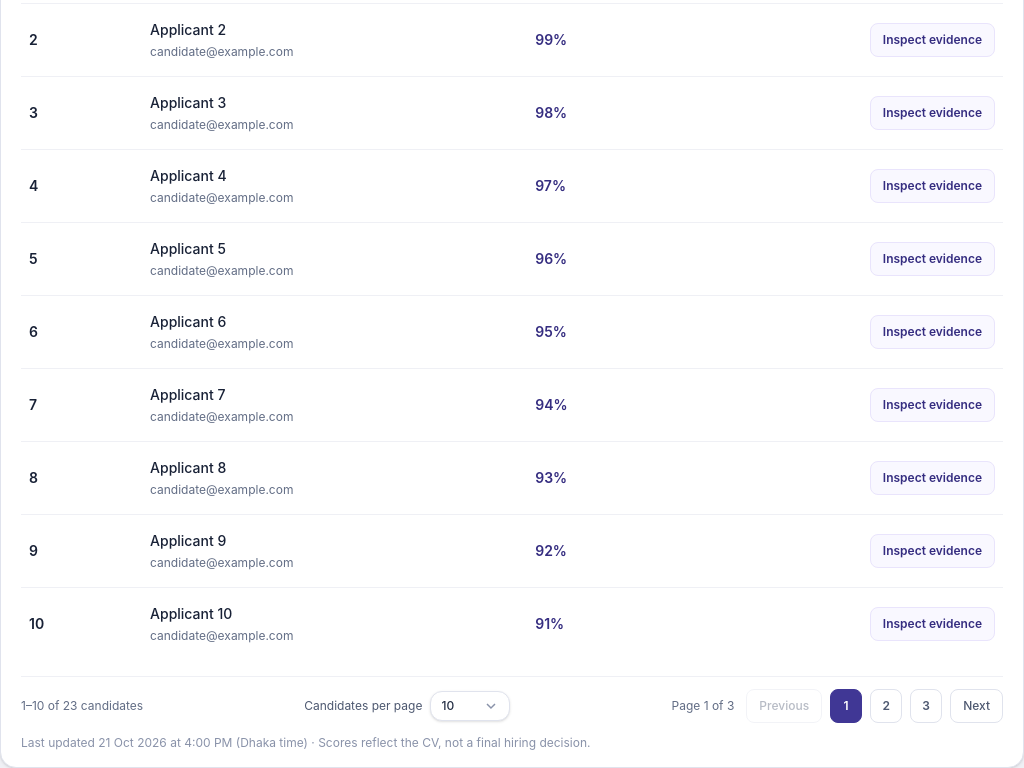
Test: paginates the complete sorted ranking without changing saved ranks or scores
(page scrolled)
Expected: the text "1–10 of 23 candidates" is shown, top-left (21, 698), bottom-right (143, 714)
Rows can render before the request's finally handler enables pagination.
Click the button named "Go to ranking page 2".
click(886, 706)  # box top-left (870, 689), bottom-right (902, 723)
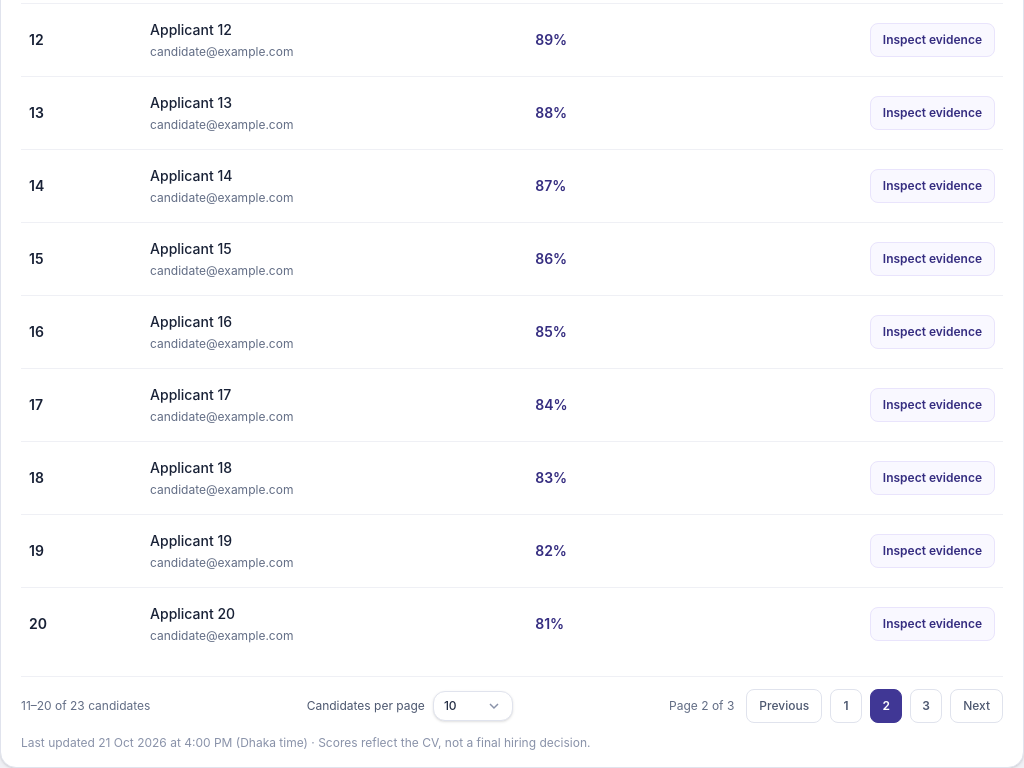
Now the text "11–20 of 23 candidates" is shown, box top-left (21, 698), bottom-right (150, 714)
Click the button "Next".
click(977, 706)  # box top-left (950, 689), bottom-right (1003, 723)
(page scrolled)
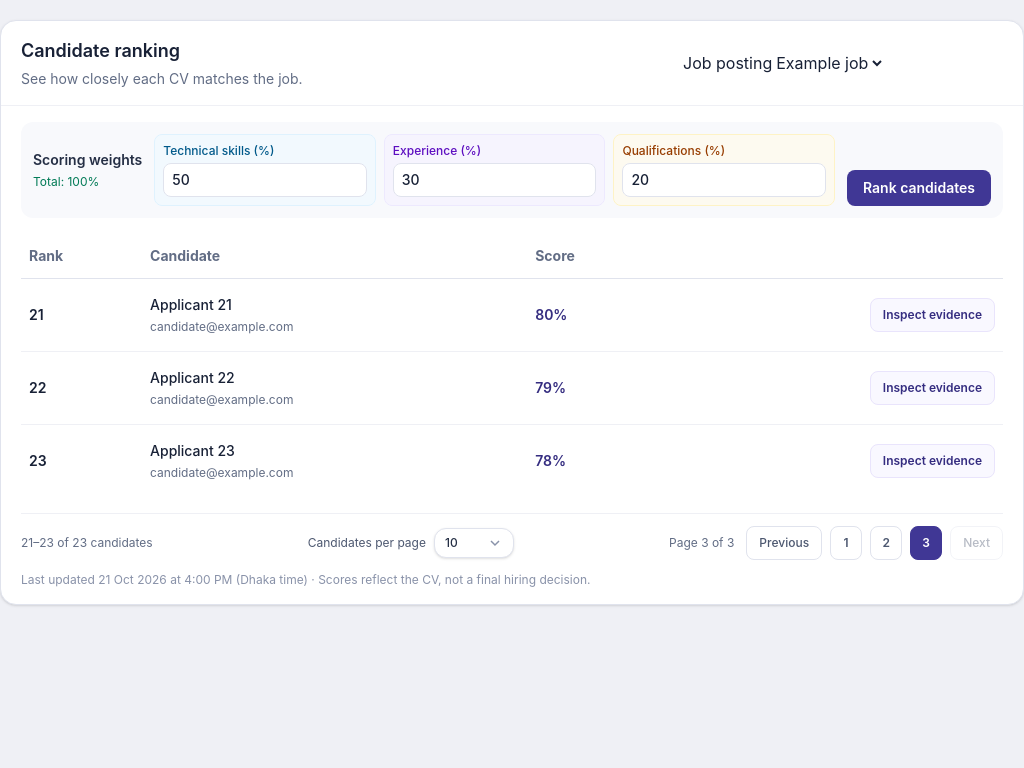
Now the text "21–23 of 23 candidates" is shown, box top-left (21, 535), bottom-right (153, 551)
Now the button "Next" is disabled, box top-left (950, 526), bottom-right (1003, 560)
